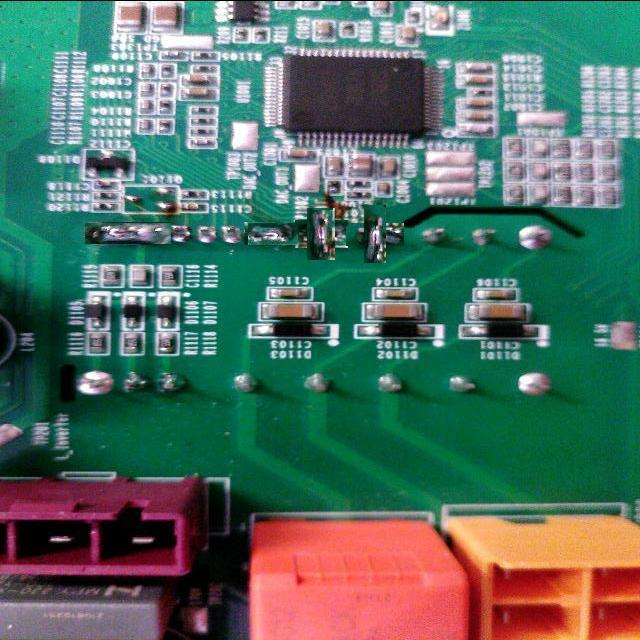Short_circuit: (84, 222, 171, 244), (301, 214, 342, 254), (355, 214, 395, 255), (244, 222, 298, 245)
